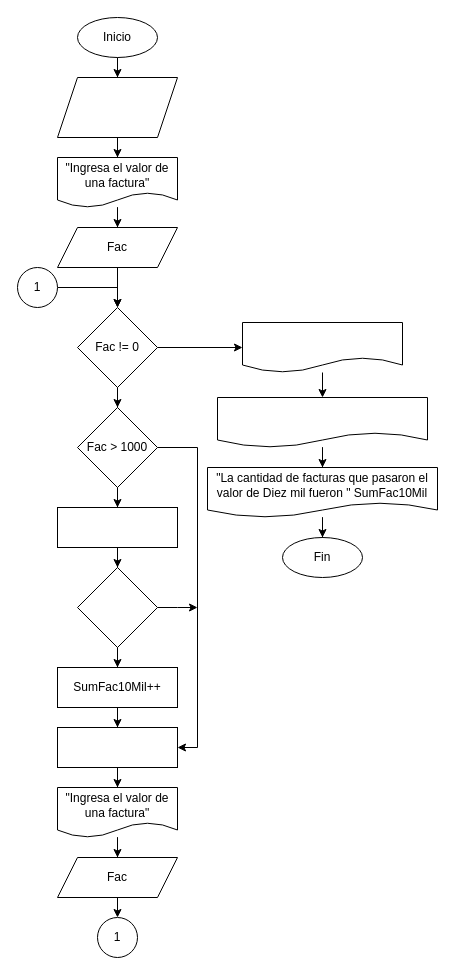
Some shapes in this 455 by 975 pixel diagram are drawn without their labels. Each missing label, with the centre of its shape:
"La cantidad de facturas que pasaron el valor de mil fueron " SumFacMil: pixel 322 422
"La suma de las facturas es de " SumFac: pixel 322 347
Fac > 10000: pixel 117 607
Fac, SumFac, SumFacMil, SumFac10Mil: pixel 117 107
SumFac += Fac: pixel 117 747
SumFacMil++: pixel 117 527
